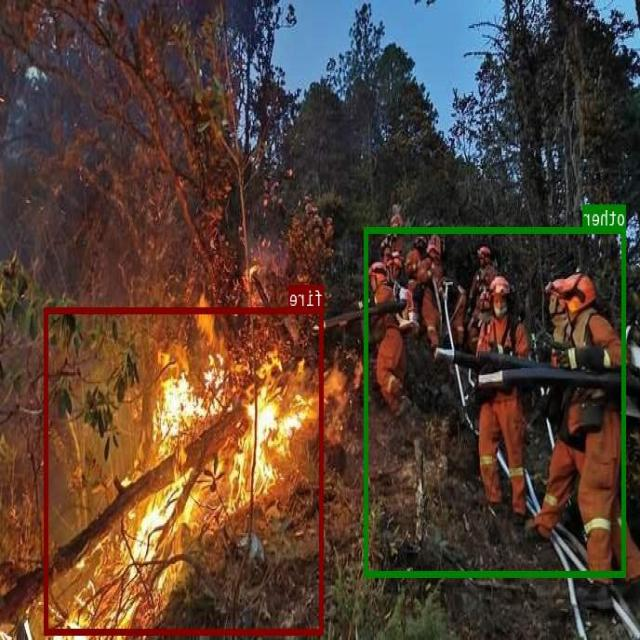fire: (45, 306, 324, 634)
other: (365, 226, 627, 576)
